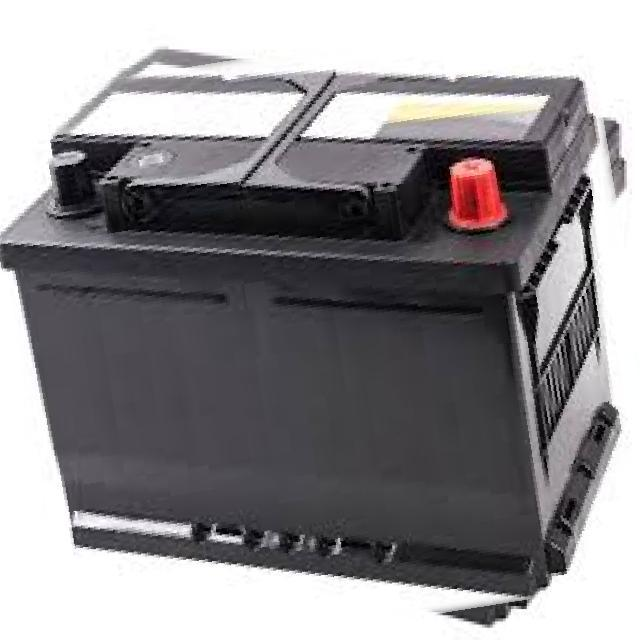Battery: (3, 36, 640, 595)
